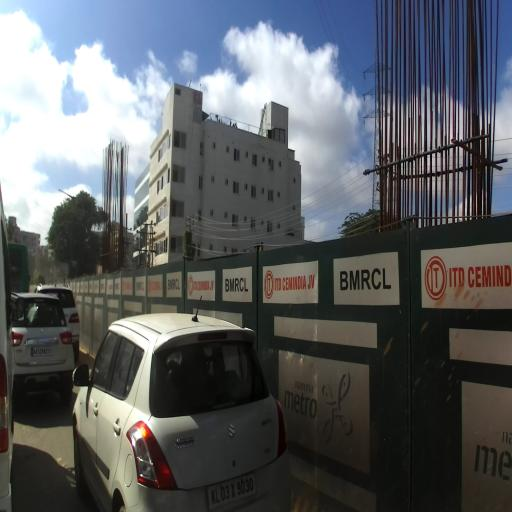street_light_0: (58, 189, 74, 202), (72, 194, 90, 202), (42, 244, 52, 249)
